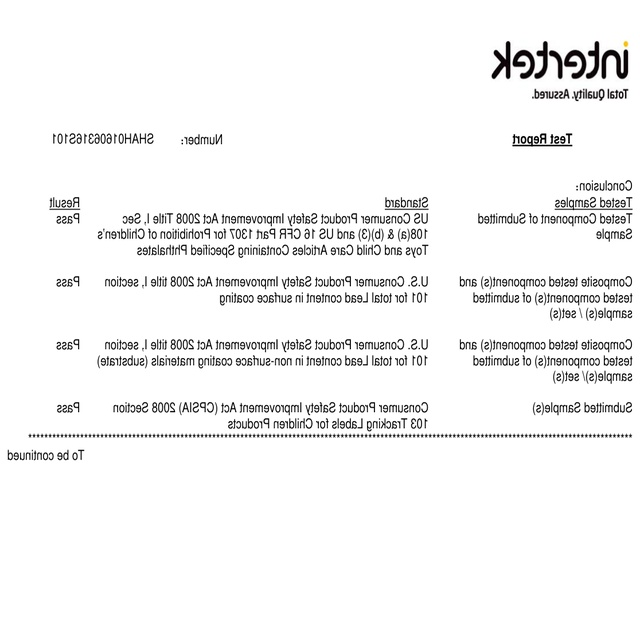intertek: (487, 37, 632, 82)
